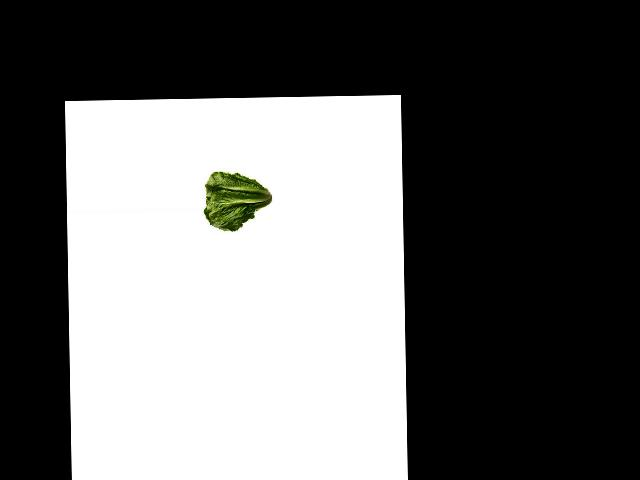lettuce: (202, 172, 276, 234)
